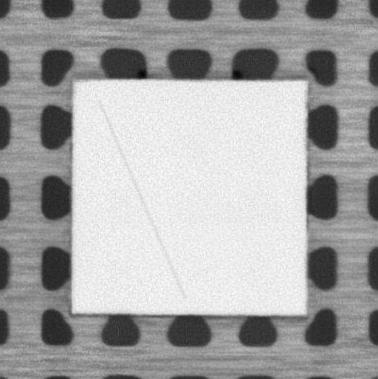DIE_CRACK: (96, 100, 183, 297)
